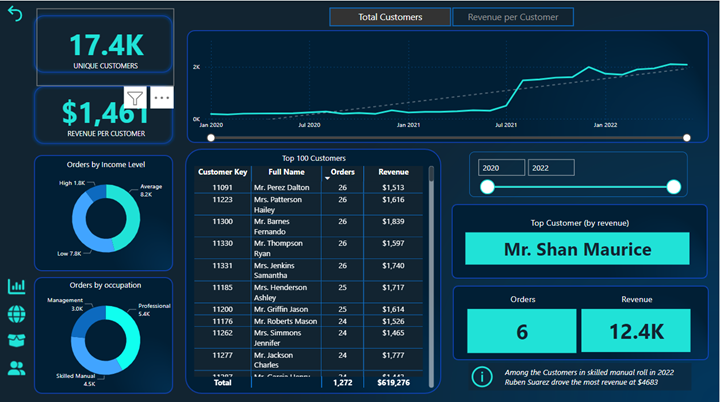

What the dashboard file says about the page in this screenshot:
{"tool":"powerbi","page":{"name":"Customer Detail","canvas":[1280,720],"ordinal":1},"visuals":[{"type":"actionButton","box":[10.5,488.9,44.5,39.1],"z":0,"group":"g1"},{"type":"card","fields":{"Values":["Measure Table.Average Revenue per Customer"]},"box":[69.8,134.4,242.6,137.9],"z":0},{"type":"card","fields":{"Values":["Measure Table.Total Customers"]},"box":[68.1,14,244.3,137.9],"z":1000},{"type":"actionButton","box":[10.5,585,44.5,39.1],"z":1000,"group":"g1"},{"type":"lineChart","fields":{"Y":["Measure Table.Total Customers"],"Category":["Calendar Lookup.Date Hierarchy.Start of Year","Calendar Lookup.Date Hierarchy.Start of Month","Calendar Lookup.Date Hierarchy.Start of Week","Calendar Lookup.Date Hierarchy.Date"]},"box":[340.3,57.6,907.4,197.2],"z":2000},{"type":"actionButton","box":[10.5,633,44.5,39.1],"z":2000,"group":"g1"},{"type":"actionButton","box":[10.5,536.9,44.5,39.1],"z":3000,"group":"g1"},{"type":"donutChart","title":"Orders by Income Level","fields":{"Category":["Customer Lookup.Income Level"],"Y":["Customer Lookup.Income Level"]},"box":[69.8,280.9,242.6,193.7],"z":3000},{"type":"donutChart","title":"Orders by occupation","fields":{"Y":["Customer Lookup.Income Level"],"Category":["Customer Lookup.Occupation"]},"box":[68.1,495.6,244.3,197.2],"z":4000},{"type":"tableEx","title":"Top 100 Customers","fields":{"Values":["Customer Lookup.CustomerKey","Customer Lookup.Full Name","Measure Table.Total Orders","Measure Table.Total Revenue"]},"box":[342,270.5,436.2,422.3],"z":5000},{"type":"card","fields":{"Values":["Customer Lookup.Full Name (Customer Detail)"]},"box":[828.9,411.8,397.9,57.6],"z":6000},{"type":"card","fields":{"Values":["Measure Table.Total Orders (Customer Detail)"]},"box":[832.4,547.9,193.7,78.5],"z":7000},{"type":"card","fields":{"Values":["Measure Table.Total Revenue (Customer Detail)"]},"box":[1034.8,547.9,193.7,76.8],"z":8000},{"type":"textbox","box":[923.1,378.7,218.1,33.1],"z":9000},{"type":"textbox","box":[1036.5,514.8,193.7,34.9],"z":10000},{"type":"textbox","box":[834.1,514.8,193.7,33.2],"z":11000},{"type":"slicer","fields":{"Values":["Calendar Lookup.Year"]},"box":[835.9,268.7,387.4,80.3],"z":12000},{"type":"actionButton","box":[834.1,643.9,396.1,48.9],"z":13000},{"type":"slicer","fields":{"Values":["Customer Metric Selection.Customer Metric Selection"]},"box":[561.9,5.2,483.3,47.1],"z":14000},{"type":"shape","title":"Left Nav Background","box":[10.5,1.7,54.1,708.5],"z":15000},{"type":"actionButton","box":[10.5,3.5,43.6,38.4],"z":16000},{"type":"group","id":"g1","title":"Navigation Buttons","box":[10.5,488.9,44.5,183.3],"z":17000}]}

Visuals, with their boxes in screenshot pixels (x1, y1, x2, y2), scaled from the page's 1280x720 canvas onto the 720x402 screenshot:
actionButton: bbox=(6, 273, 31, 295)
card - Measure Table.Average Revenue per Customer: bbox=(39, 75, 176, 152)
card - Measure Table.Total Customers: bbox=(38, 8, 176, 85)
actionButton: bbox=(6, 327, 31, 348)
lineChart - Measure Table.Total Customers x Calendar Lookup.Date Hierarchy.Start of Year: bbox=(191, 32, 702, 142)
actionButton: bbox=(6, 353, 31, 375)
actionButton: bbox=(6, 300, 31, 322)
"Orders by Income Level" donutChart: bbox=(39, 157, 176, 265)
"Orders by occupation" donutChart: bbox=(38, 277, 176, 387)
"Top 100 Customers" tableEx: bbox=(192, 151, 438, 387)
card - Customer Lookup.Full Name (Customer Detail): bbox=(466, 230, 690, 262)
card - Measure Table.Total Orders (Customer Detail): bbox=(468, 306, 577, 350)
card - Measure Table.Total Revenue (Customer Detail): bbox=(582, 306, 691, 349)
textbox: bbox=(519, 211, 642, 230)
textbox: bbox=(583, 287, 692, 307)
textbox: bbox=(469, 287, 578, 306)
slicer - Calendar Lookup.Year: bbox=(470, 150, 688, 195)
actionButton: bbox=(469, 360, 692, 387)
slicer - Customer Metric Selection.Customer Metric Selection: bbox=(316, 3, 588, 29)
"Left Nav Background" shape: bbox=(6, 1, 36, 397)
actionButton: bbox=(6, 2, 30, 23)
"Navigation Buttons" group: bbox=(6, 273, 31, 375)
